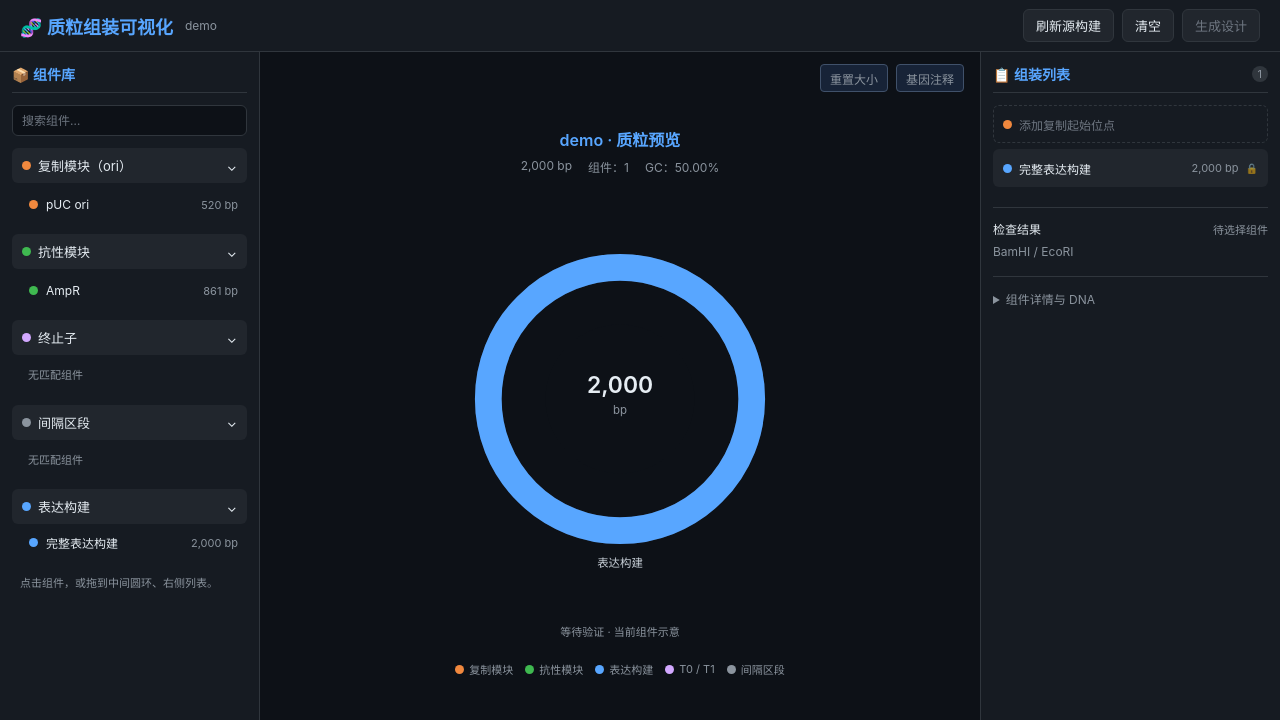
Test case: Workbench › renders a failed preview API message
Expected: the text "AmpR" is shown, [46,283,80,298]
Click the button "AmpR 861 bp". click: (134, 290)
box: [20,275,247,306]
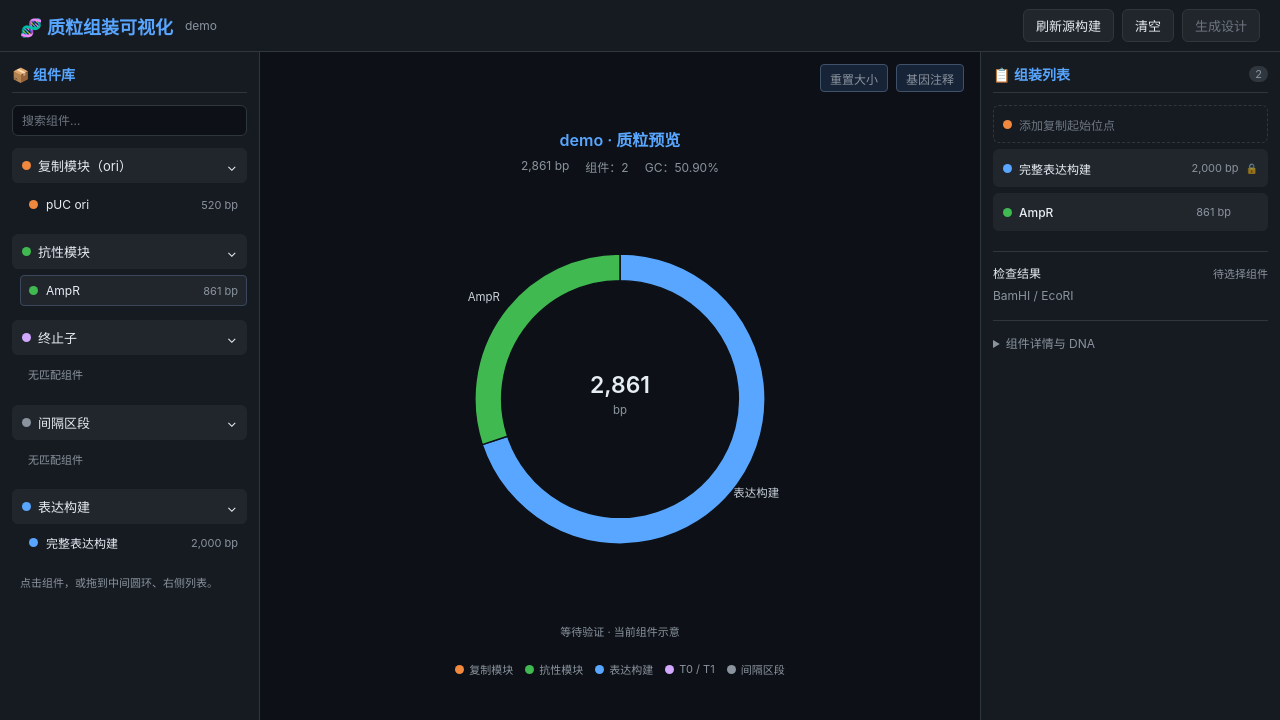
Click the button "pUC ori 520 bp". click: (134, 204)
box: [20,189,247,220]
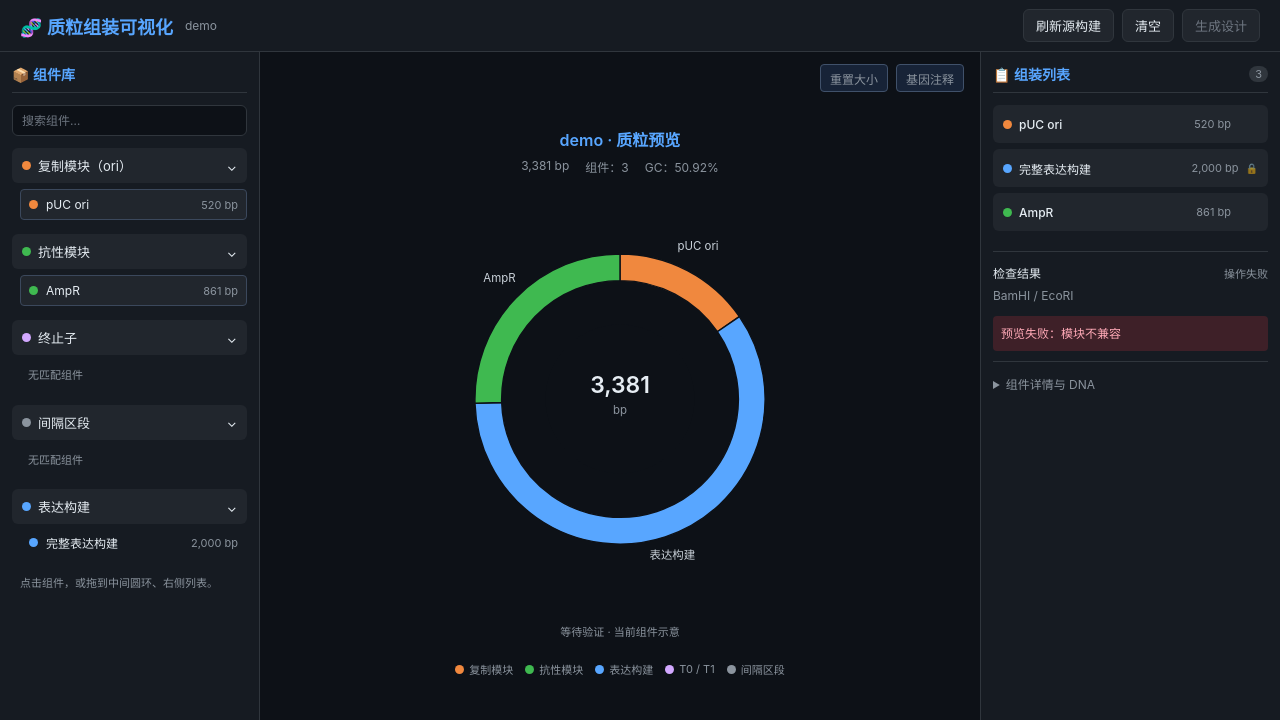
Expected: the text "预览失败：模块不兼容" is shown, [993,316,1268,351]
